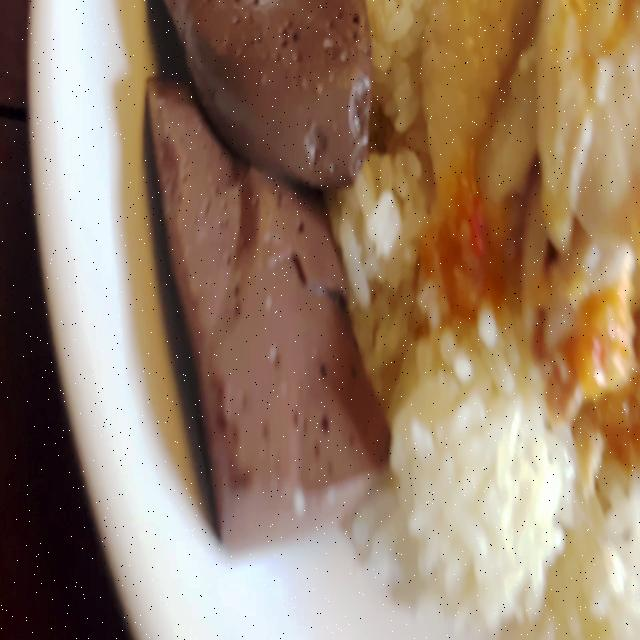boiled_chicken: (423, 0, 640, 474)
boiled_chicken_blood_jelly: (152, 76, 390, 530), (149, 0, 374, 179)
chicken_rice: (115, 0, 640, 640)
